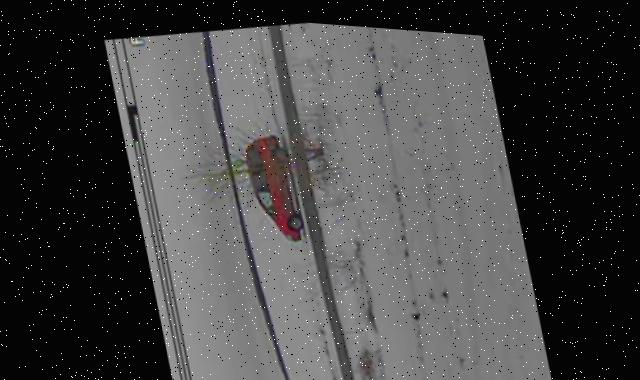car: (237, 119, 304, 242)
